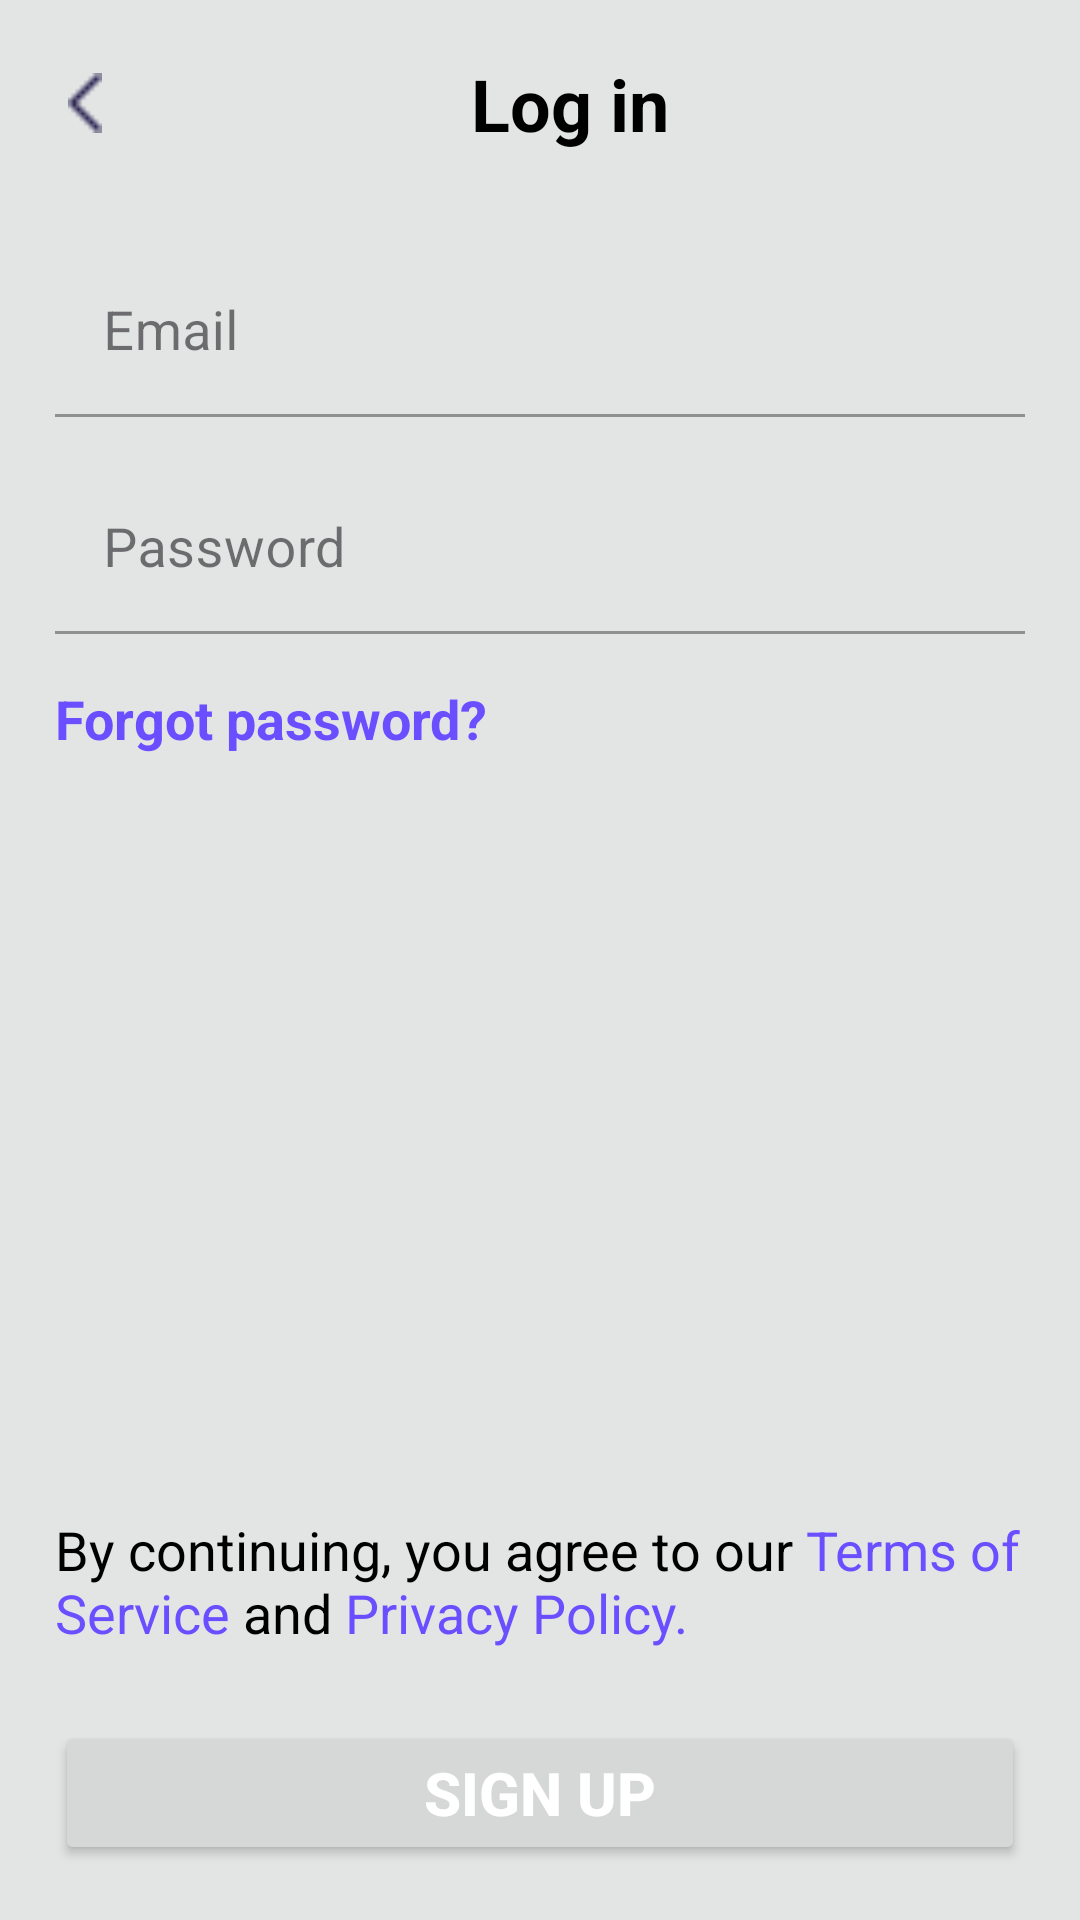

Icons on this 1080px×1920px Android screen, each with the point to tap as point (x, y):
arrow back: point (85, 103)
